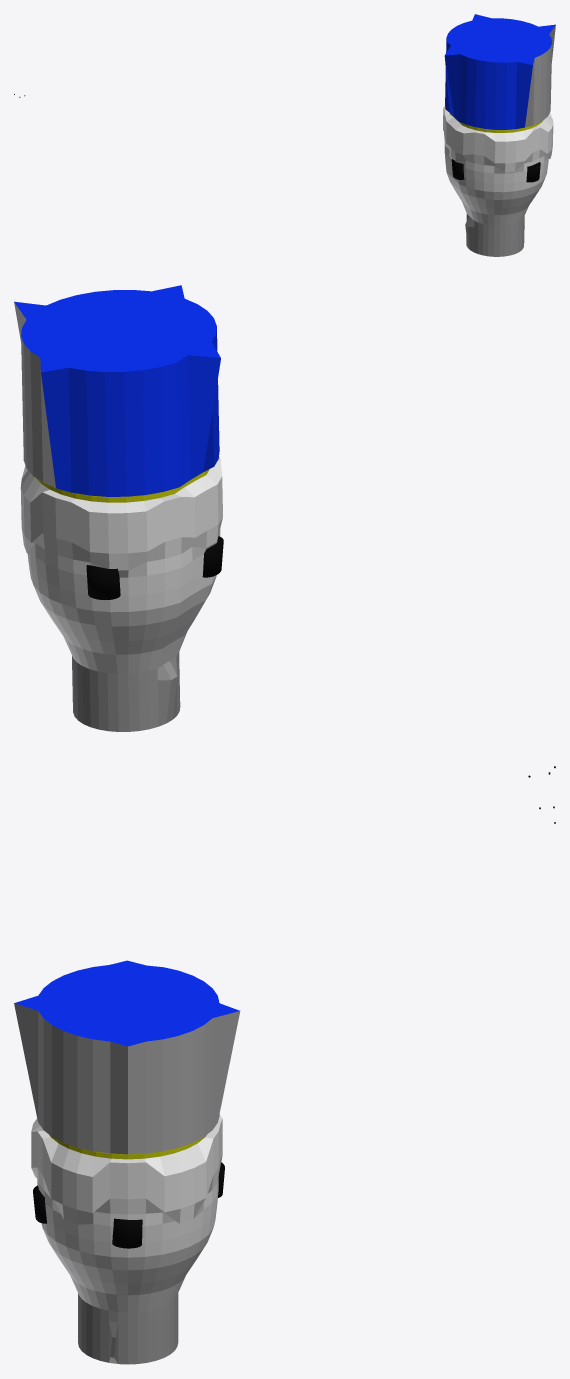
The model's file is Crew-11 Dragon.glb.
The picture shows the model from 3 angles, top to bottom: view 1: azimuth 30°, elevation 25°; view 2: azimuth 150°, elevation 25°; view 3: azimuth 270°, elevation 25°; orthographic projection. The views are drawn at different scales.
Parts seen in each view (by area): view 1: Cylinder.015, Cylinder.018; view 2: Cylinder.015, Cylinder.018; view 3: Cylinder.015, Cylinder.018.
Part boxes in pixels (x1,y1,x2,y2): Cylinder.015: [443, 14, 555, 256]; Cylinder.018: [451, 159, 540, 182]; Cylinder.015: [14, 285, 222, 731]; Cylinder.018: [86, 536, 223, 599]; Cylinder.015: [14, 960, 240, 1364]; Cylinder.018: [33, 1162, 224, 1248].
Size of the model in its own units: 9.17 by 4.34 by 6.13.
